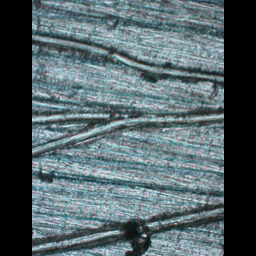d: (32, 95, 224, 161), (32, 28, 224, 89), (32, 202, 223, 256)
